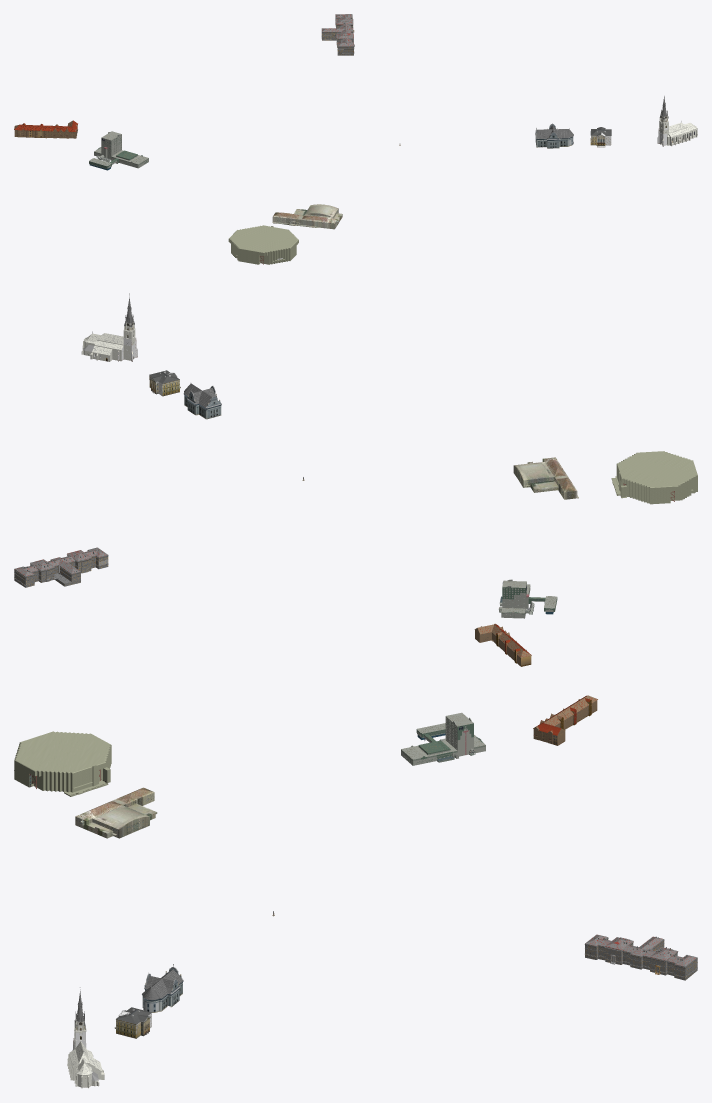
File: modely.glb
The picture shows the model from 3 angles, top to bottom: view 1: azimuth 30°, elevation 25°; view 2: azimuth 150°, elevation 25°; view 3: azimuth 270°, elevation 25°; orthographic projection. The views are drawn at different scales.
Parts seen in each view (by area): view 1: tehly, Google_Earth_Snapshot_2, M_metropol, material_1, material, žltá-stena-tmavšia; view 2: tehly, material_1, Google_Earth_Snapshot_2, M_metropol, material, žltá-stena-tmavšia; view 3: tehly, material_1, M_metropol, Google_Earth_Snapshot_2, material, žltá-stena-tmavšia, material_6.
Part boxes in pixels (<box>): tehly: <box>228,225,298,264</box>; Google_Earth_Snapshot_2: <box>272,204,342,229</box>; M_metropol: <box>89,131,148,170</box>; material_1: <box>321,14,354,55</box>; material: <box>659,115,697,146</box>; žltá-stena-tmavšia: <box>14,120,77,138</box>; tehly: <box>611,451,697,504</box>; material_1: <box>14,547,108,587</box>; Google_Earth_Snapshot_2: <box>513,457,578,499</box>; M_metropol: <box>498,579,557,618</box>; material: <box>81,322,135,361</box>; žltá-stena-tmavšia: <box>474,623,531,666</box>; tehly: <box>14,731,111,796</box>; material_1: <box>584,934,697,980</box>; M_metropol: <box>401,712,485,765</box>; Google_Earth_Snapshot_2: <box>75,787,156,838</box>; material: <box>67,1019,104,1088</box>; žltá-stena-tmavšia: <box>533,695,597,745</box>; material_6: <box>142,969,183,999</box>.
Bounding box in the file's own units: 815 × 85.37 × 621.
570 materials, 514 textured.
